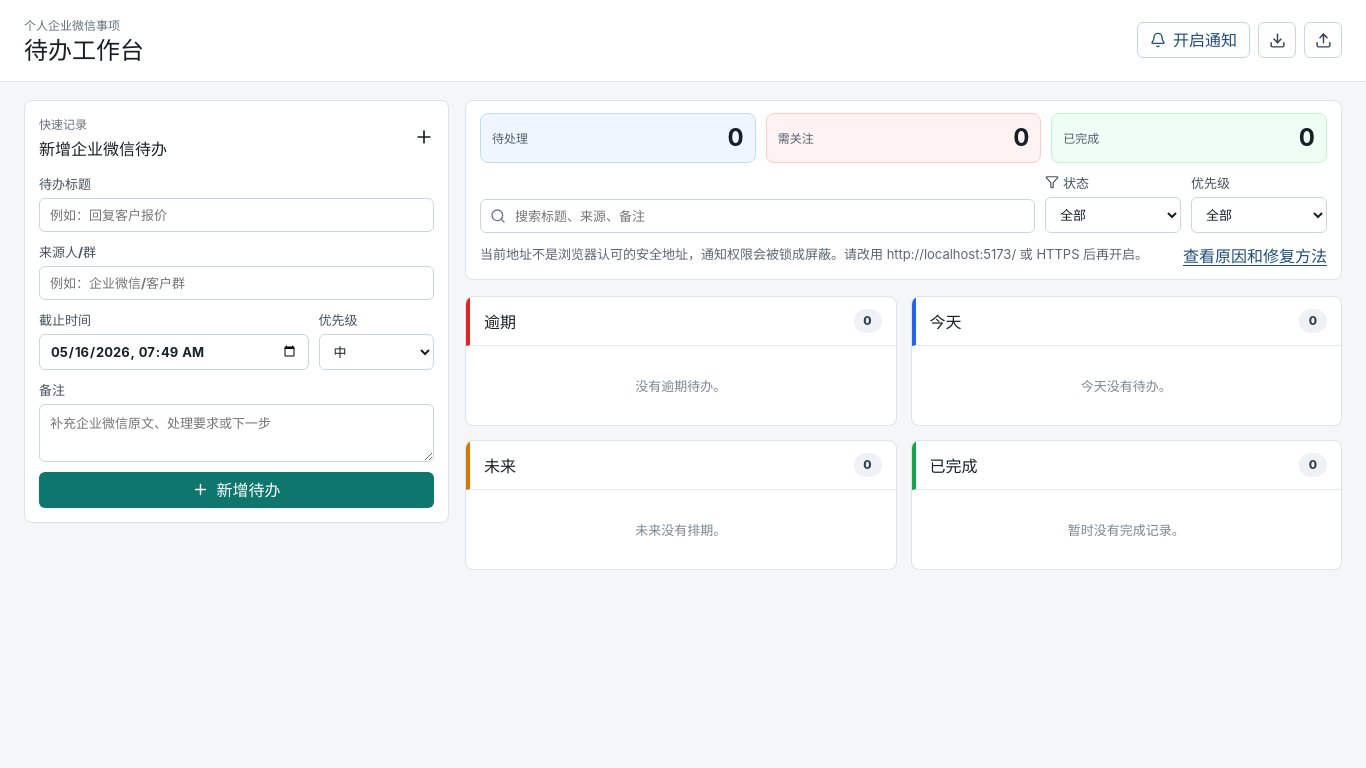
Test case: App › diagnoses blocked notification permissions before requesting browser permission
Expected: the text "当前地址不是浏览器认可的安全地址，通知权限会被锁成屏蔽。请改用 http://localhost:5173/ 或 HTTPS 后再开启。" is shown, 480,245 -> 1171,264
Click the button "开启通知": point(1194, 40) 1137,22 -> 1250,58
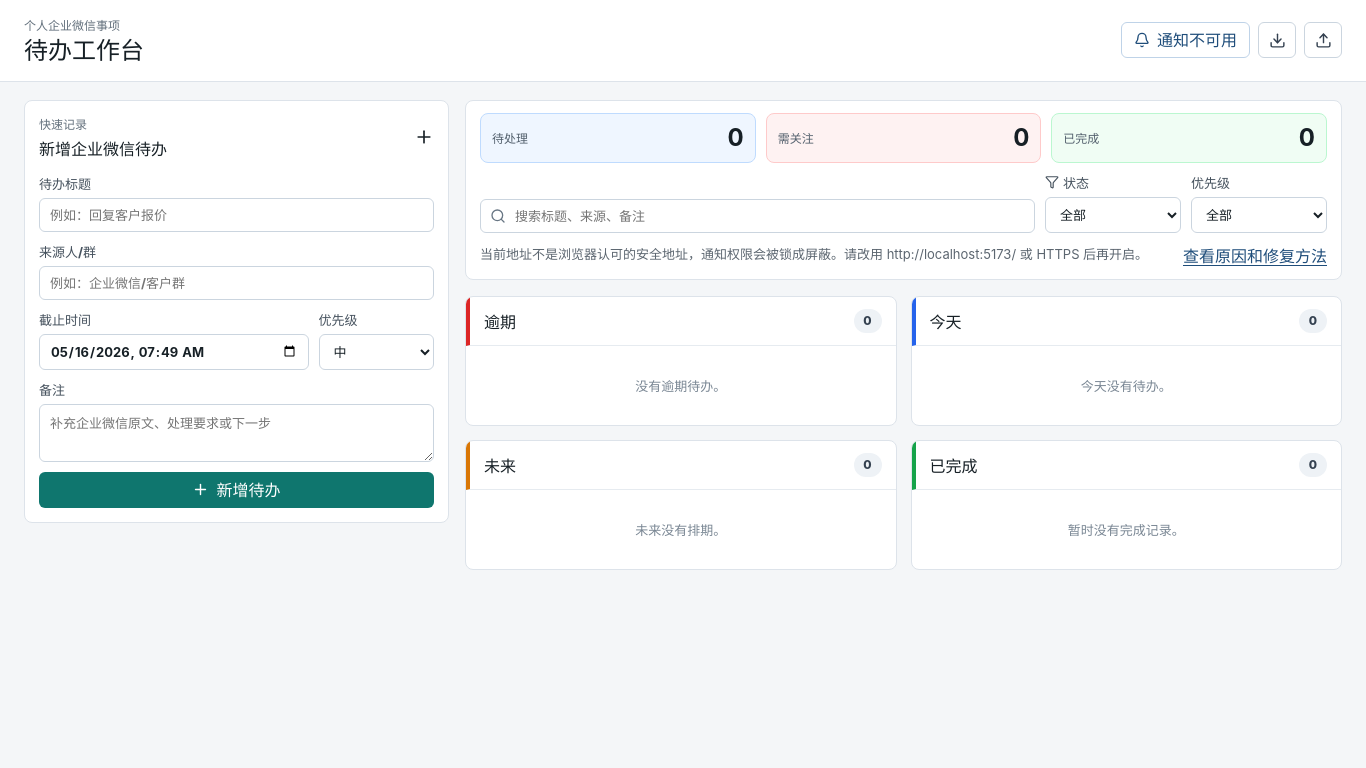
Result: the button "通知不可用" is shown at 1121,22 -> 1250,58
Click the button "查看原因和修复方法": point(1255, 255) 1183,243 -> 1327,267
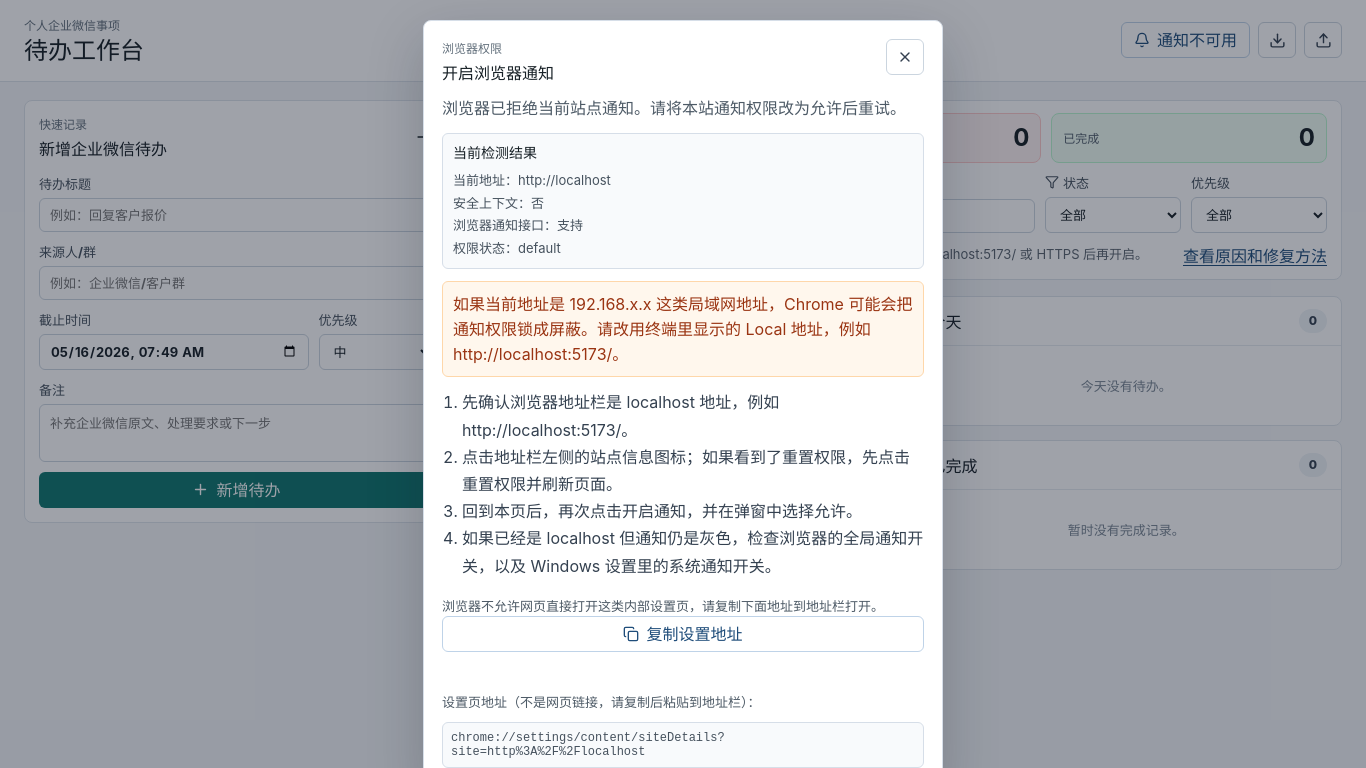
Result: the heading "当前检测结果" is shown at 453,144 -> 537,161
Result: the text "安全上下文：否" is shown at 453,194 -> 544,210
Result: the text "浏览器通知接口：支持" is shown at 453,217 -> 583,233
